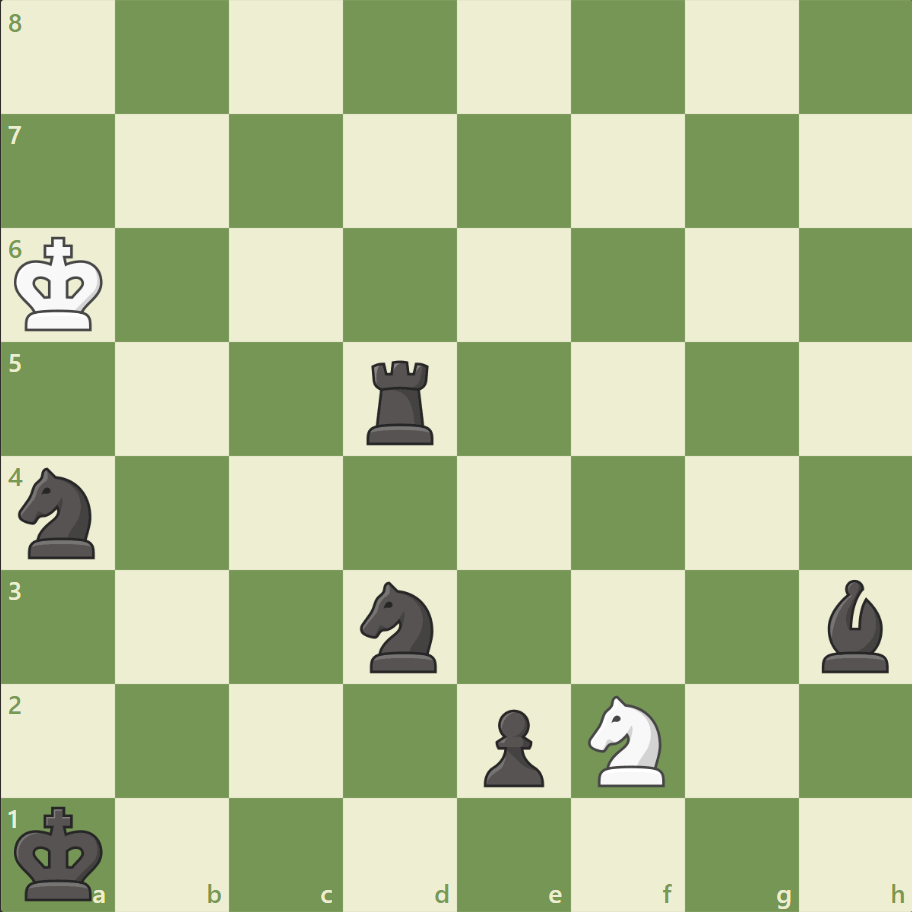K: (11, 231, 111, 339)
N: (579, 688, 676, 791)
b: (812, 574, 896, 676)
k: (11, 798, 111, 906)
n: (351, 575, 449, 677), (11, 461, 108, 564)
p: (474, 700, 549, 791)
r: (360, 352, 442, 449)
